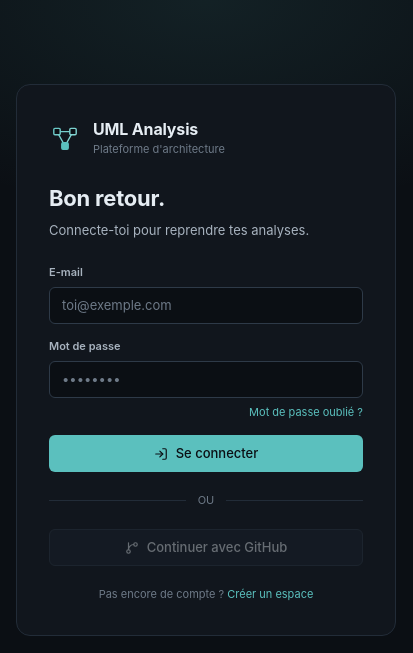
Test: Login — interactions › shows loading state while submitting
Type "test@test.com" into the field with placeholder "toi@exemple.com" at (206, 306), box x1=49 y1=287 x2=363 y2=324
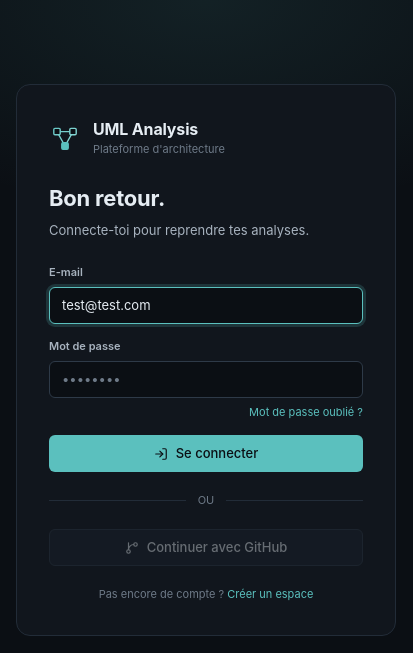
Type "Alice1234!@#" into the password field with placeholder "••••••••" at (206, 380), box x1=49 y1=361 x2=363 y2=398
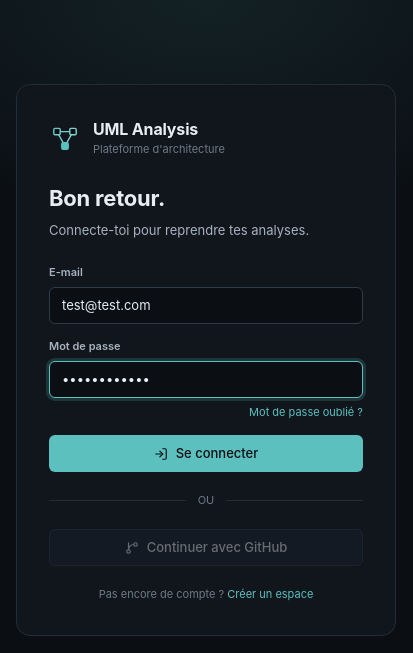
Click the button "Se connecter" at (206, 454), box x1=49 y1=435 x2=363 y2=472
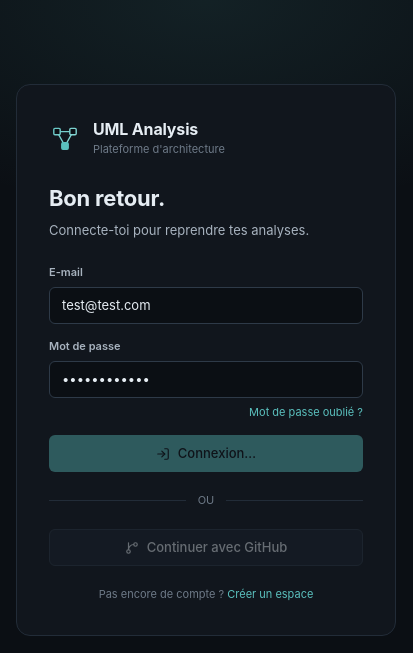
Result: the button "Connexion…" is disabled at x1=49 y1=435 x2=363 y2=472
